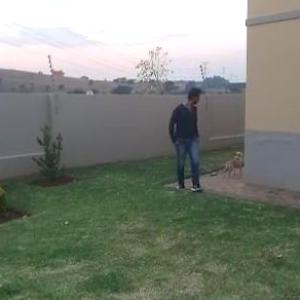follow: (170, 78, 206, 199)
